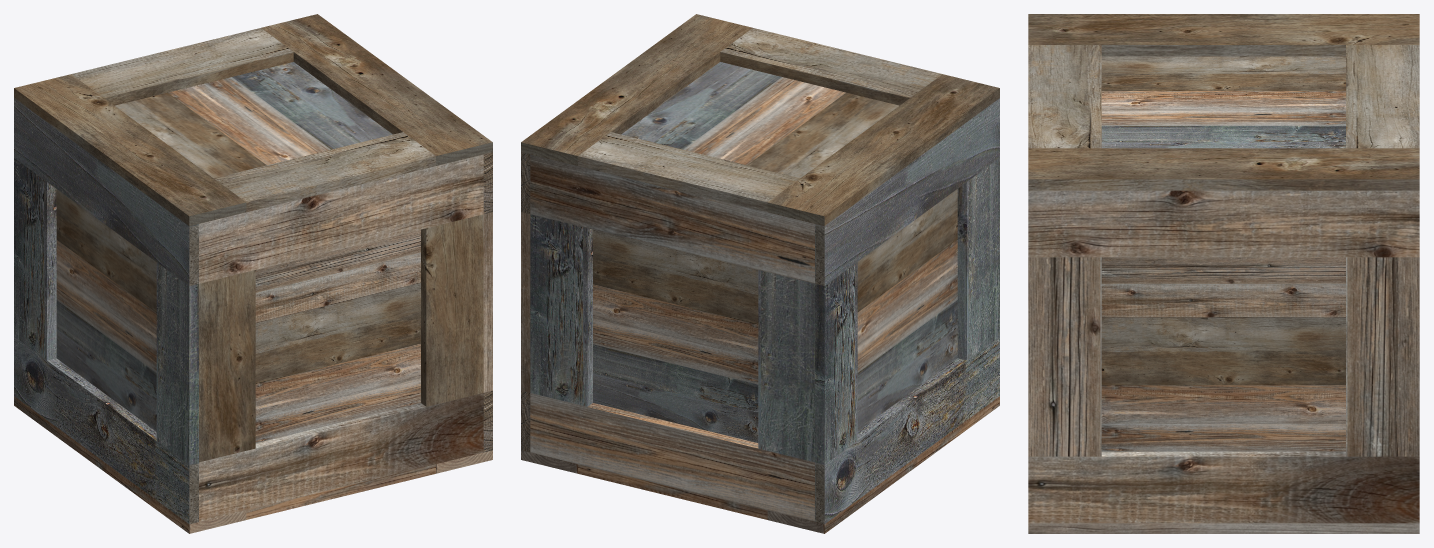
File: SM_VendorCrate_01_E.FBX
The picture shows the model from 3 angles, left to right: view 1: azimuth 30°, elevation 25°; view 2: azimuth 150°, elevation 25°; view 3: azimuth 270°, elevation 25°; orthographic projection. The views are drawn at different scales.
Visible parts, largest first — view 1: SM_VendorCrate_01_E; view 2: SM_VendorCrate_01_E; view 3: SM_VendorCrate_01_E.
Part boxes in pixels (box(x1,y1,x2,y2)): SM_VendorCrate_01_E: box(14, 14, 492, 533); SM_VendorCrate_01_E: box(521, 14, 999, 533); SM_VendorCrate_01_E: box(1028, 14, 1419, 533).
Size of what is drawn, in the model's own units: 128 by 128 by 128.
